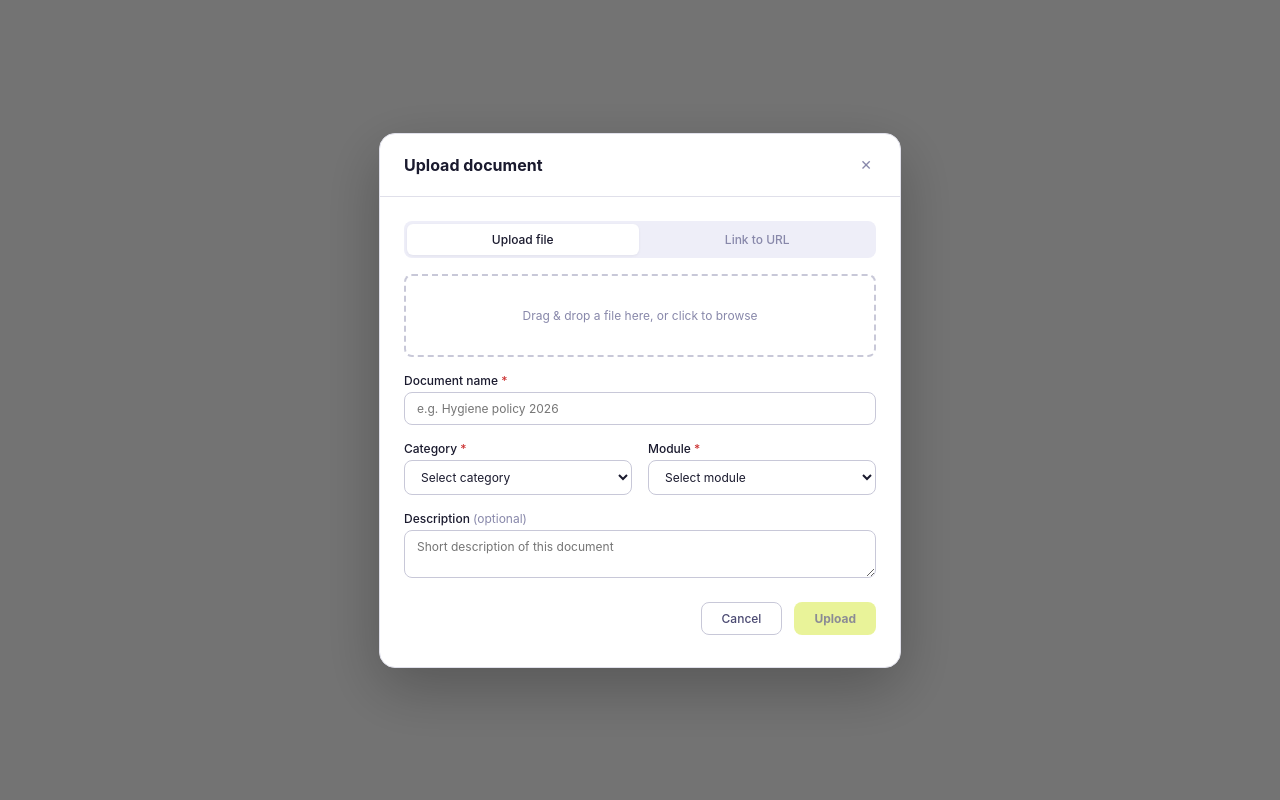
DocumentUploadModal › upload mode toggle › switches to link mode when "Link to URL" is clicked
The width and height of the screenshot is (1280, 800).
Click the button with class "toggle-btn" showing "Link to URL" at (757, 239), box [642,224,873,254]
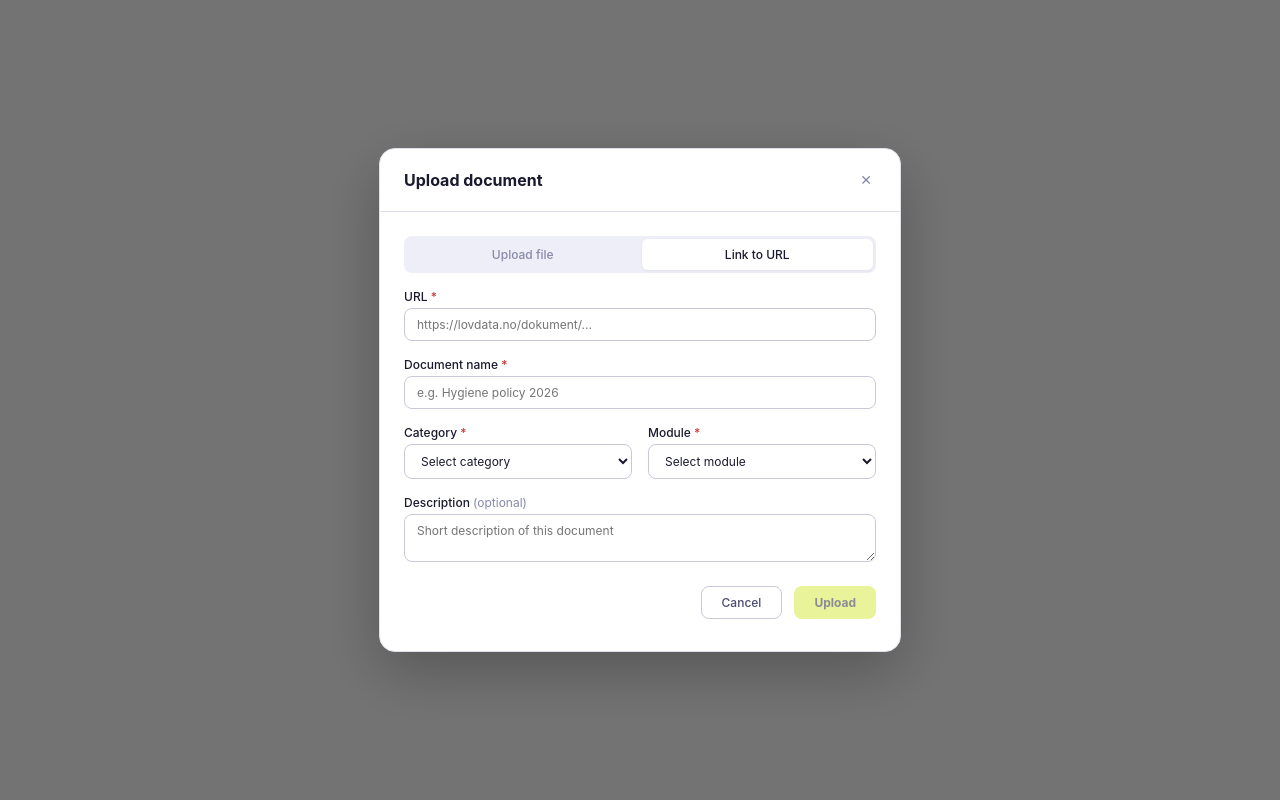
expect the field with id "upload-url" is shown: met, box [404,308,876,341]
